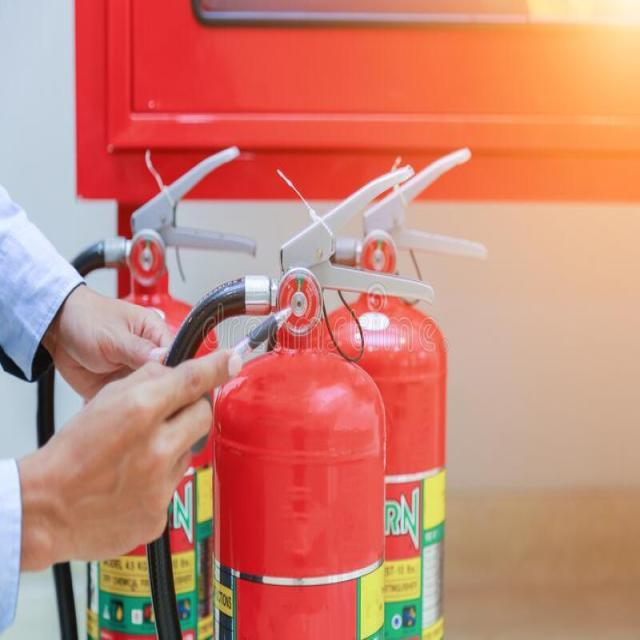fire_extinguisher: (139, 162, 439, 639), (29, 140, 261, 639), (279, 142, 490, 638)
